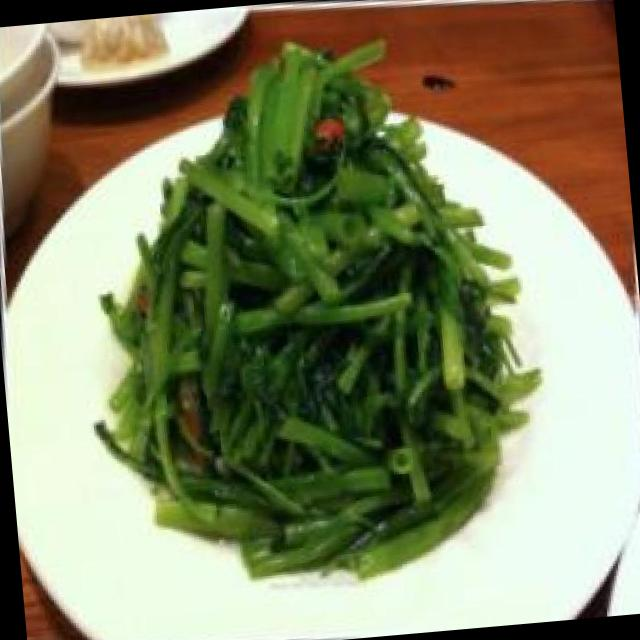water_spinach: (137, 117, 493, 542)
